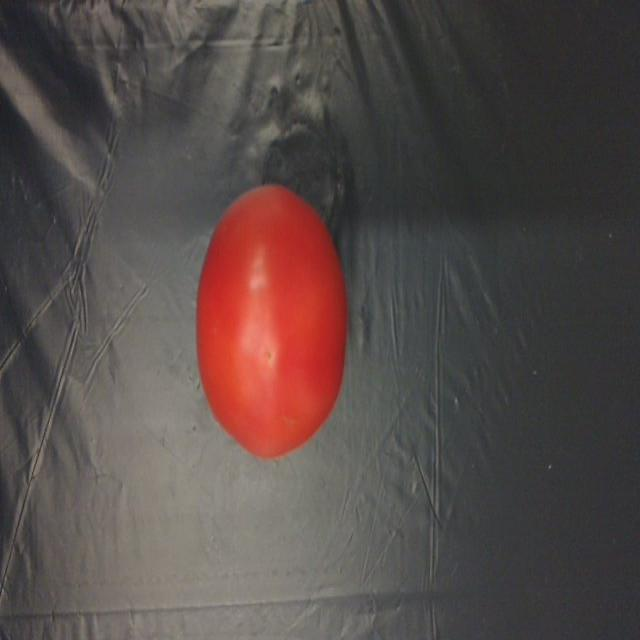kirmizi: (192, 152, 344, 484)
